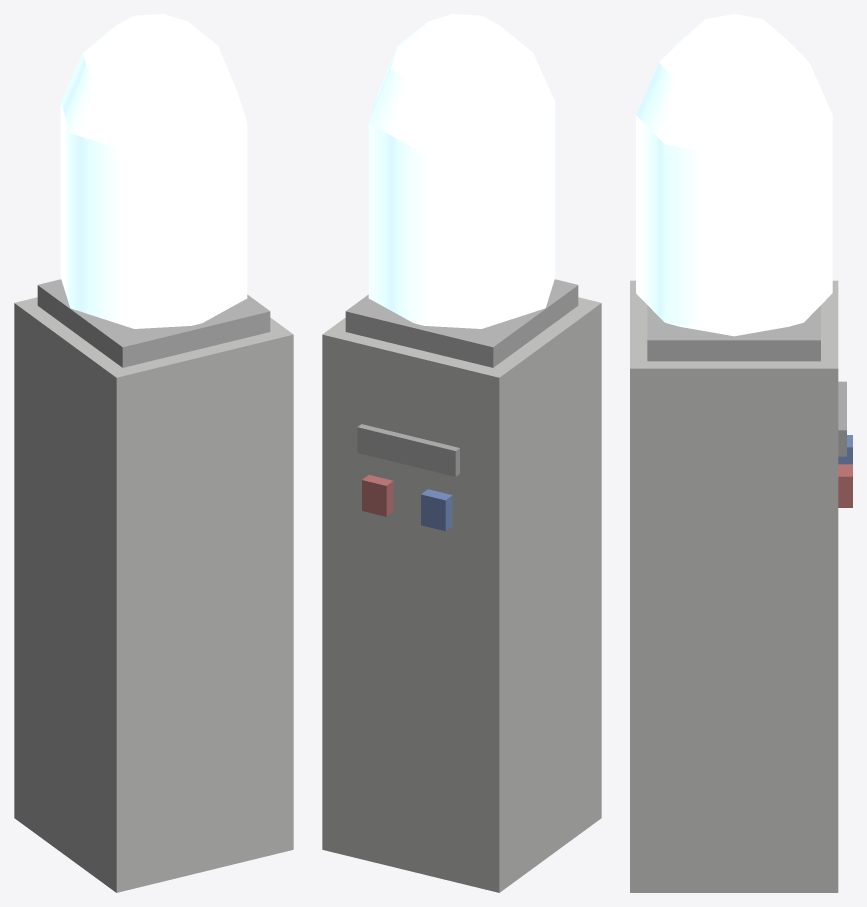
File: water_cooler.glb
3 views of the same model, side by side, from view 1: azimuth 30°, elevation 25°; view 2: azimuth 150°, elevation 25°; view 3: azimuth 270°, elevation 25° (orthographic).
Parts seen in each view (by area): view 1: Water_cooler; view 2: Water_cooler; view 3: Water_cooler.
Part boxes in pixels (x1,y1,x2,y2): Water_cooler: (14,14,293,892); Water_cooler: (322,14,601,892); Water_cooler: (630,14,852,892).
Size of the model in its own units: 0.36 by 1.56 by 0.385.
